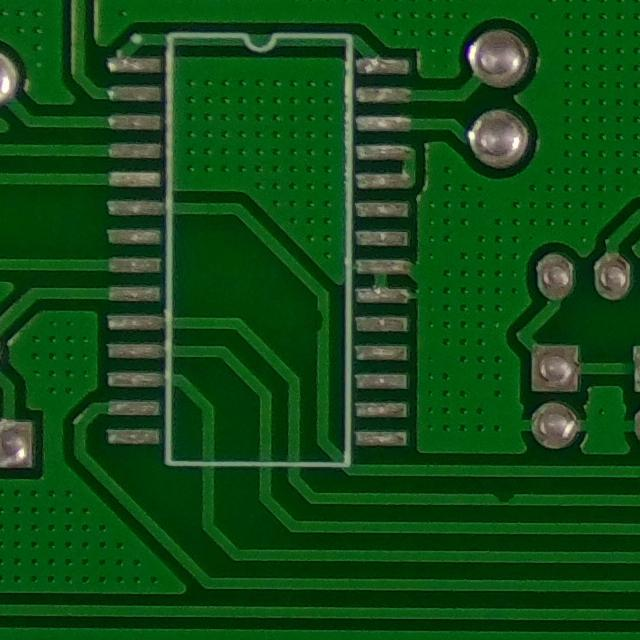mouse_bite: (302, 296, 339, 344)
